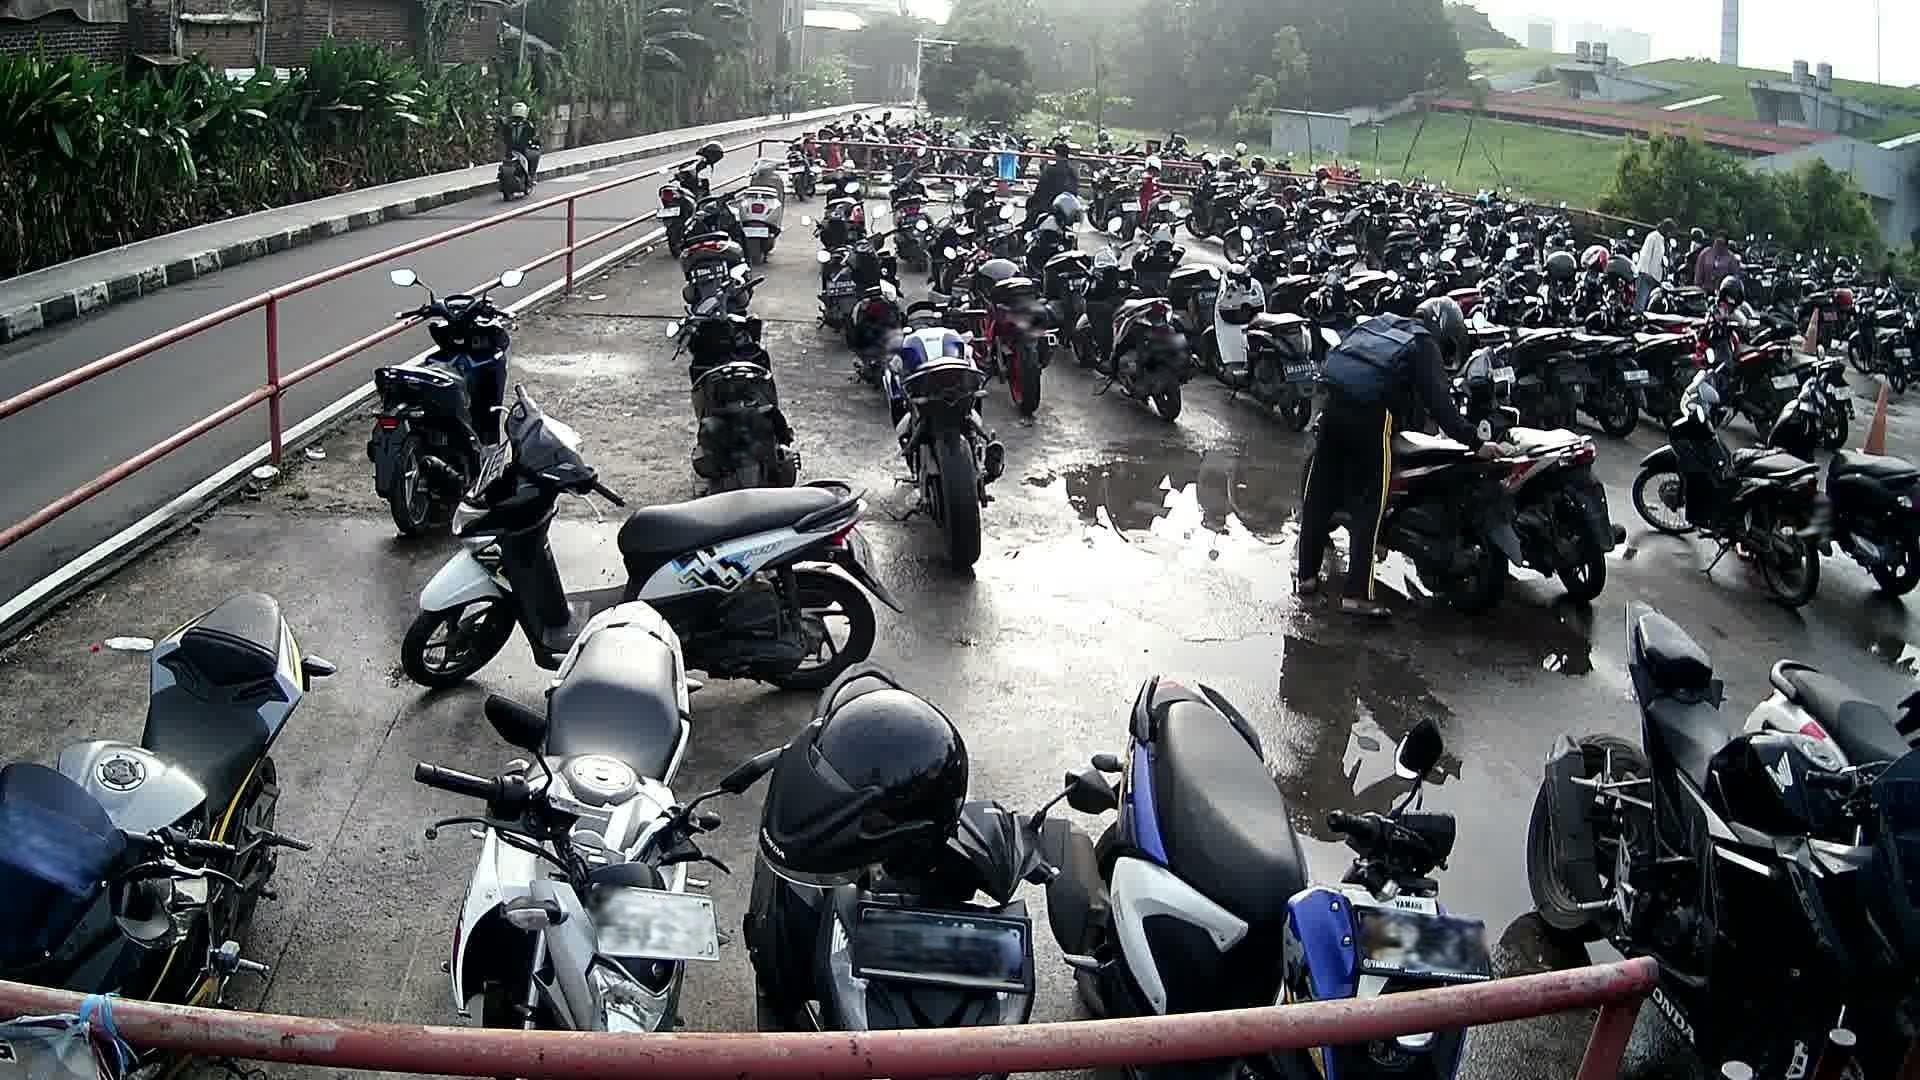motorcycle: (1530, 601, 1920, 1080), (401, 388, 909, 695), (3, 579, 340, 998), (410, 604, 740, 1031), (1044, 674, 1491, 985), (744, 662, 1067, 1026), (1636, 360, 1826, 603), (1455, 339, 1627, 591), (365, 265, 522, 541), (872, 287, 1019, 571), (670, 256, 806, 489), (1783, 372, 1920, 596), (1400, 421, 1516, 607)
